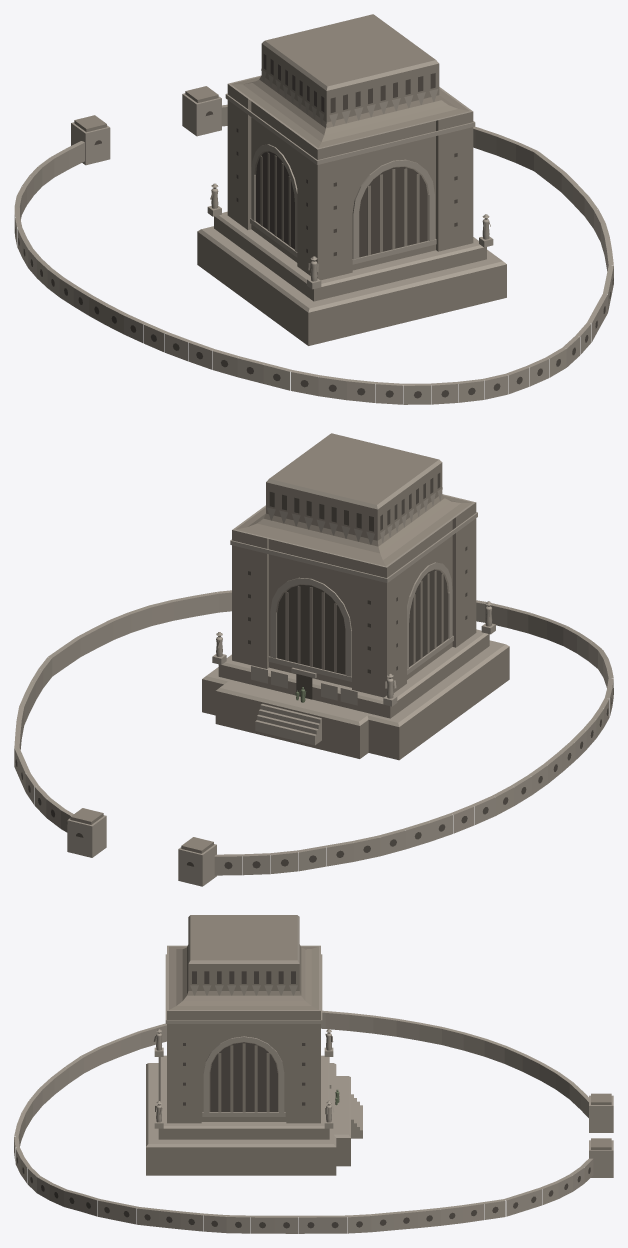
Rendered from pretoria-voortrekker-monument.glb.
The picture shows the model from 3 angles, top to bottom: view 1: azimuth 30°, elevation 25°; view 2: azimuth 150°, elevation 25°; view 3: azimuth 270°, elevation 25°; orthographic projection. The views are drawn at different scales.
Visible parts, largest first — view 1: Voortrekker Monument; view 2: Voortrekker Monument; view 3: Voortrekker Monument.
Boxes of the visible parts, left/top/right/bottom form: Voortrekker Monument: left=14, top=14, right=613, bottom=404; Voortrekker Monument: left=14, top=433, right=613, bottom=886; Voortrekker Monument: left=14, top=915, right=613, bottom=1233.
Size of the model in its own units: 97.96 by 48.03 by 121.
